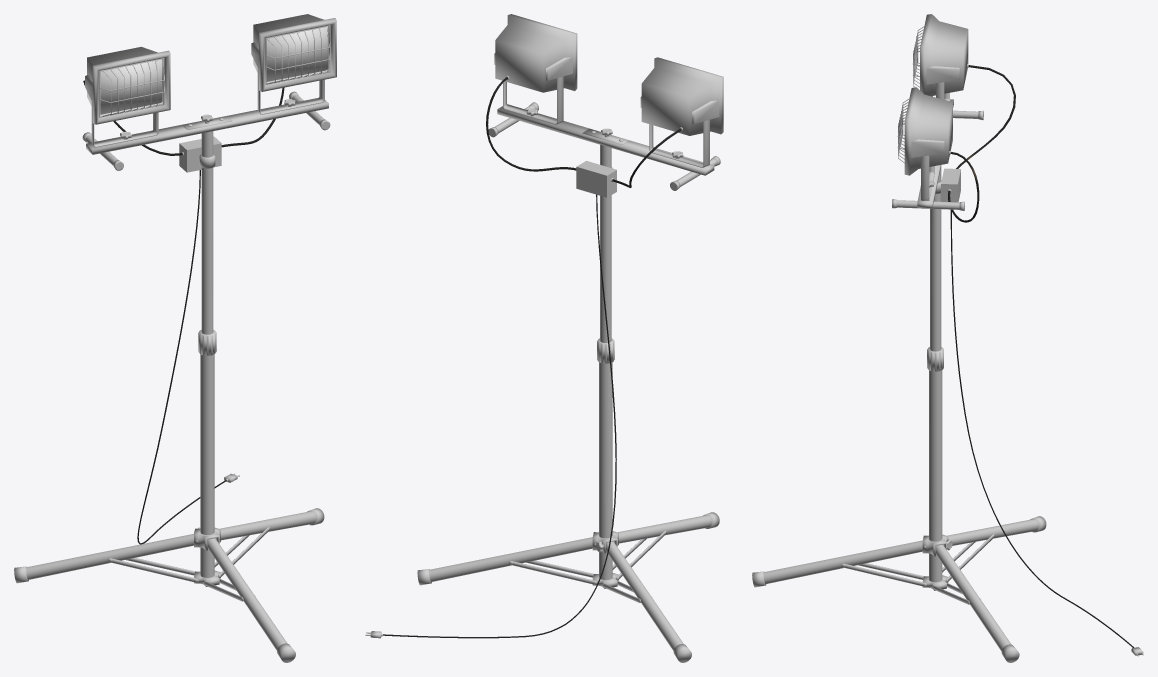
Rendered from KB3D_DMZ_Lamp_A.fbx.
3 renders of one model, left to right at view 1: azimuth 30°, elevation 25°; view 2: azimuth 150°, elevation 25°; view 3: azimuth 270°, elevation 25°, orthographic. The views are drawn at different scales.
Visible parts, largest first — view 1: KB3D_DMZ_Lamp_A_Main; view 2: KB3D_DMZ_Lamp_A_Main; view 3: KB3D_DMZ_Lamp_A_Main.
Part boxes in pixels (box(x1,y1,x2,y2)): KB3D_DMZ_Lamp_A_Main: box(14, 14, 336, 662); KB3D_DMZ_Lamp_A_Main: box(365, 14, 723, 662); KB3D_DMZ_Lamp_A_Main: box(752, 14, 1143, 662).
Bounding box in the file's own units: 72.94 × 131 × 88.49.
